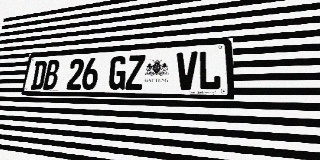2: (66, 58, 85, 90)
6: (81, 57, 100, 90)
B: (43, 60, 60, 90)
D: (30, 60, 47, 90)
G: (108, 56, 127, 90)
L: (198, 50, 221, 90)
V: (175, 51, 197, 90)
Z: (125, 54, 145, 90)
